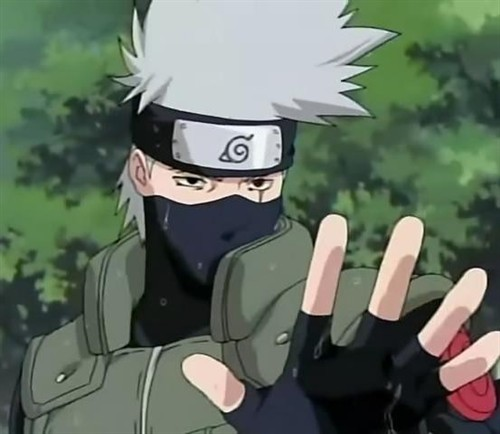kakashi: (126, 96, 294, 290)
